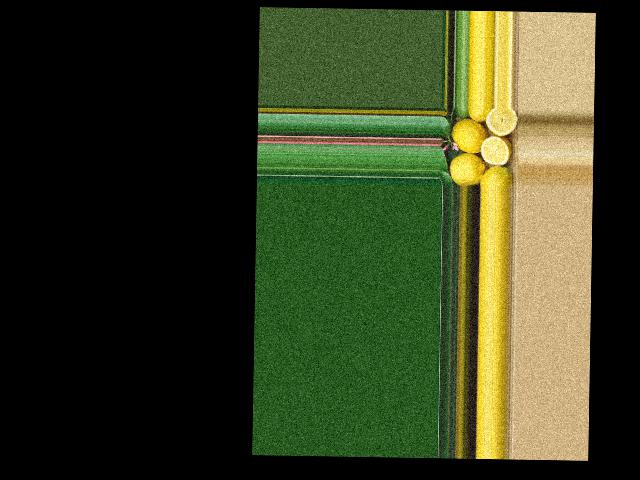lemon: (476, 160, 511, 187)
